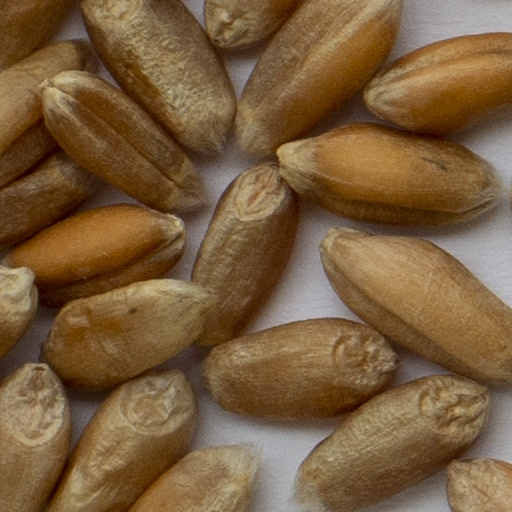Wheat-grain-poly: (315, 227, 511, 387), (289, 376, 489, 511), (49, 367, 202, 511), (199, 317, 398, 427), (37, 274, 220, 386), (0, 362, 75, 511), (126, 440, 262, 511), (443, 453, 511, 511), (0, 265, 40, 363)
